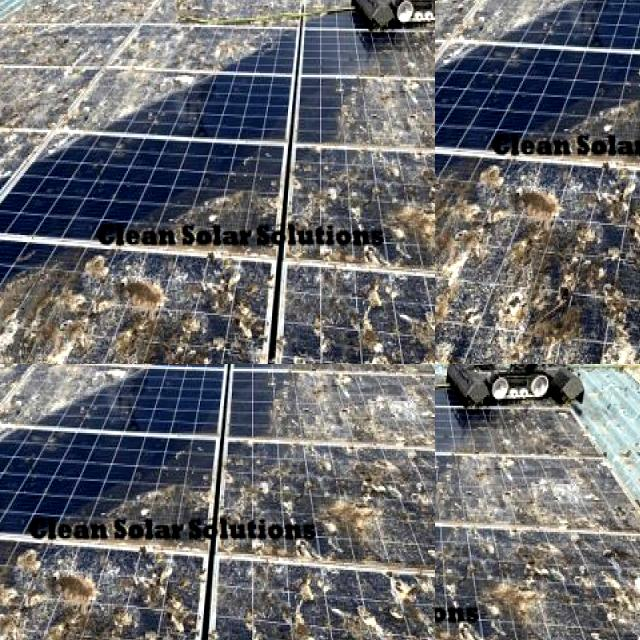bird: (508, 512, 574, 604), (606, 541, 640, 623)
crack: (0, 364, 435, 640), (435, 0, 640, 310), (435, 195, 640, 364)
panel: (36, 139, 259, 364), (300, 34, 420, 154), (182, 6, 278, 128), (13, 66, 170, 140), (105, 0, 216, 76), (272, 208, 379, 273), (0, 130, 42, 252), (388, 101, 435, 198), (301, 9, 370, 72), (241, 0, 332, 40)
